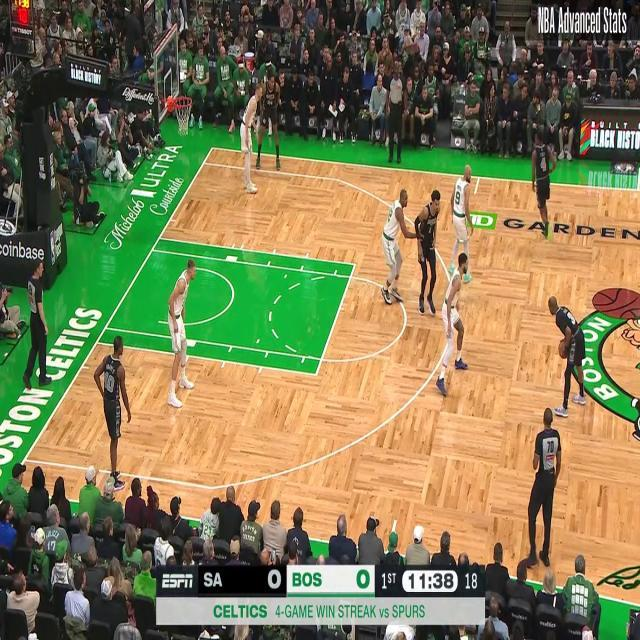ball: (556, 334, 571, 360)
player: (92, 334, 132, 494), (434, 250, 472, 398), (378, 186, 422, 306), (546, 294, 586, 419), (166, 258, 197, 410), (413, 188, 441, 318), (447, 162, 475, 284), (238, 80, 264, 196), (528, 125, 554, 240), (254, 73, 284, 168)
